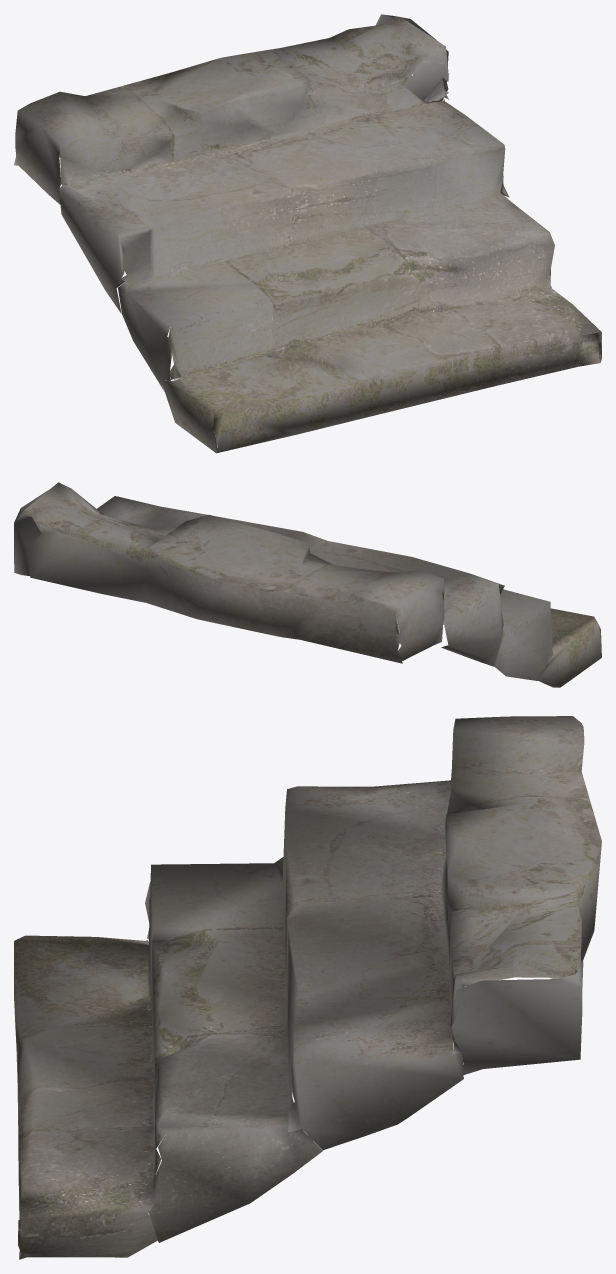
The model's file is slab.glb.
3 renders of one model, top to bottom at view 1: azimuth 30°, elevation 25°; view 2: azimuth 150°, elevation 25°; view 3: azimuth 270°, elevation 25°, orthographic. The views are drawn at different scales.
Parts seen in each view (by area): view 1: sevuM_LOD0_TIER3_000_MatID_1_0.004; view 2: sevuM_LOD0_TIER3_000_MatID_1_0.004; view 3: sevuM_LOD0_TIER3_000_MatID_1_0.004.
Part boxes in pixels (bbox=[...]): sevuM_LOD0_TIER3_000_MatID_1_0.004: bbox=[14, 14, 601, 453]; sevuM_LOD0_TIER3_000_MatID_1_0.004: bbox=[14, 482, 601, 687]; sevuM_LOD0_TIER3_000_MatID_1_0.004: bbox=[14, 716, 601, 1259].
Bounding box in the file's own units: 1.31 × 0.66 × 1.22.
1 material, 1 textured.
